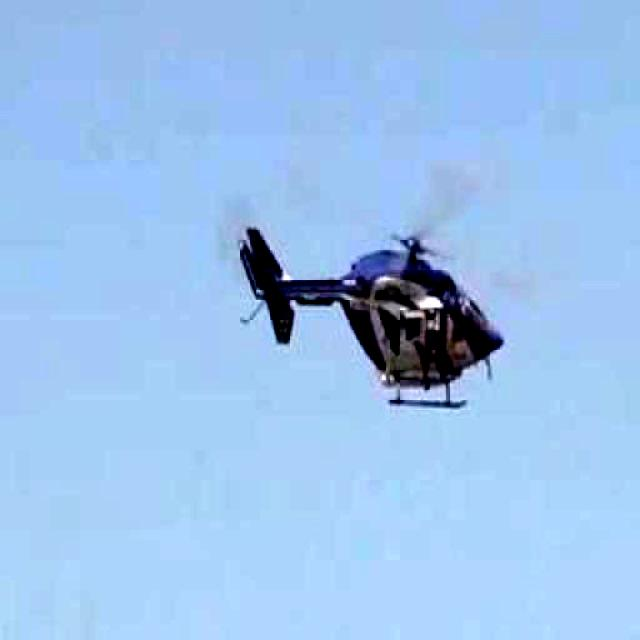drone: (206, 134, 592, 460)
